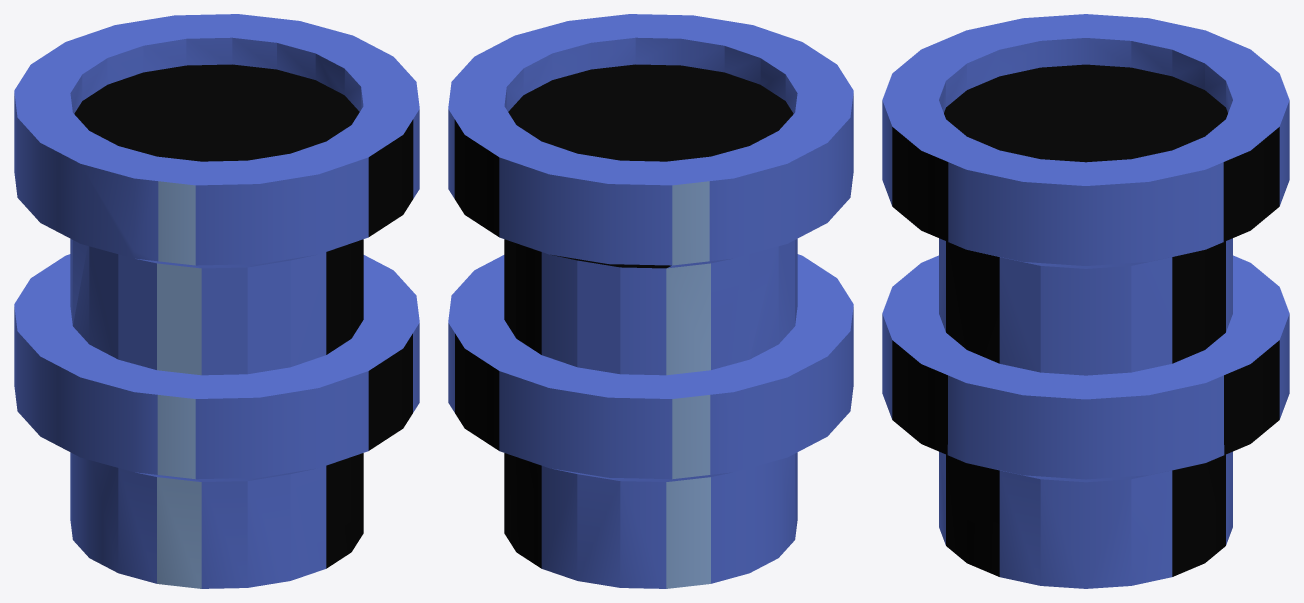
File: br-m-pot-aqua.fbx
3 renders of one model, left to right at view 1: azimuth 30°, elevation 25°; view 2: azimuth 150°, elevation 25°; view 3: azimuth 270°, elevation 25°, orthographic.
Visible parts, largest first — view 1: pot_aqua_m; view 2: pot_aqua_m; view 3: pot_aqua_m.
Boxes of the visible parts, left/top/right/bottom form: pot_aqua_m: left=14, top=14, right=419, bottom=588; pot_aqua_m: left=448, top=14, right=853, bottom=588; pot_aqua_m: left=882, top=14, right=1289, bottom=588.
Size of the model in its own units: 86.5 by 100 by 86.5.
